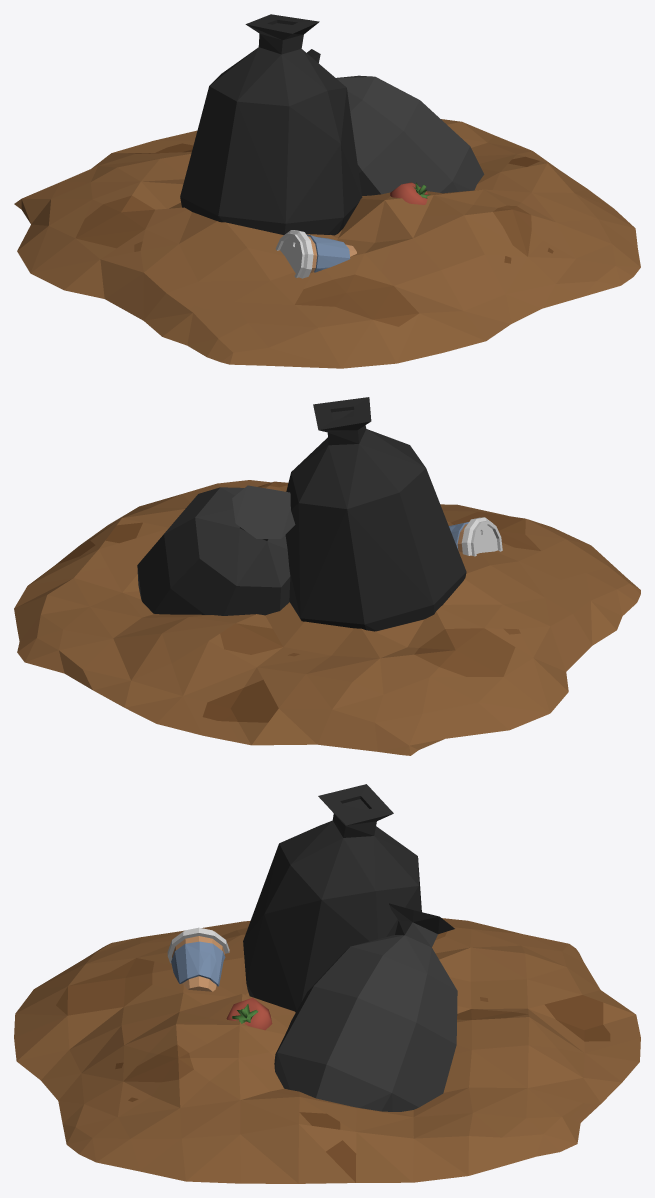
File: Garbage_01.fbx
The picture shows the model from 3 angles, top to bottom: view 1: azimuth 30°, elevation 25°; view 2: azimuth 150°, elevation 25°; view 3: azimuth 270°, elevation 25°; orthographic projection. The views are drawn at different scales.
Visible parts, largest first — view 1: Garbage_01; view 2: Garbage_01; view 3: Garbage_01.
Boxes of the visible parts, x1,y1,x2,y2 form: Garbage_01: (14, 14, 640, 368); Garbage_01: (14, 397, 640, 755); Garbage_01: (14, 784, 640, 1183).
Size of the model in its own units: 128 by 70.9 by 127.
